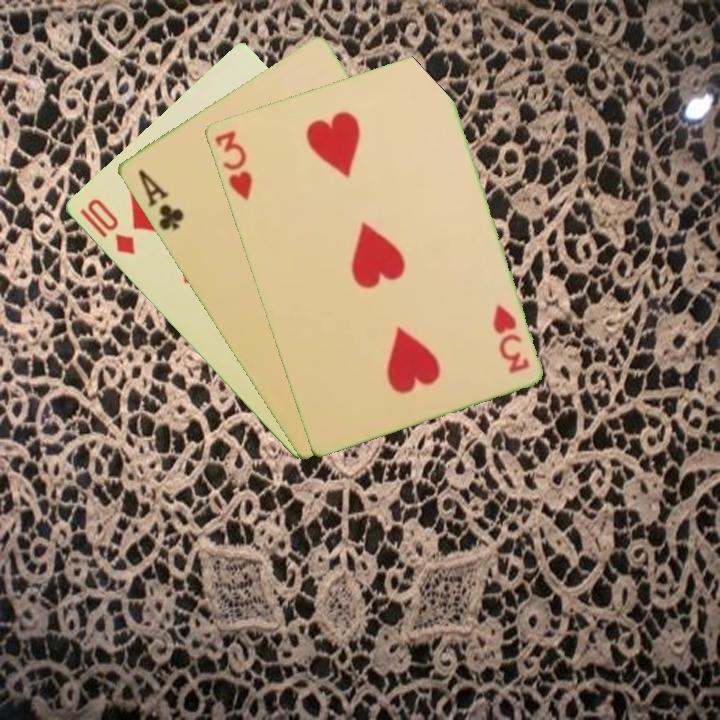10d: (82, 194, 138, 258)
3h: (211, 126, 255, 203), (489, 301, 532, 376)
Ac: (134, 165, 187, 233)
